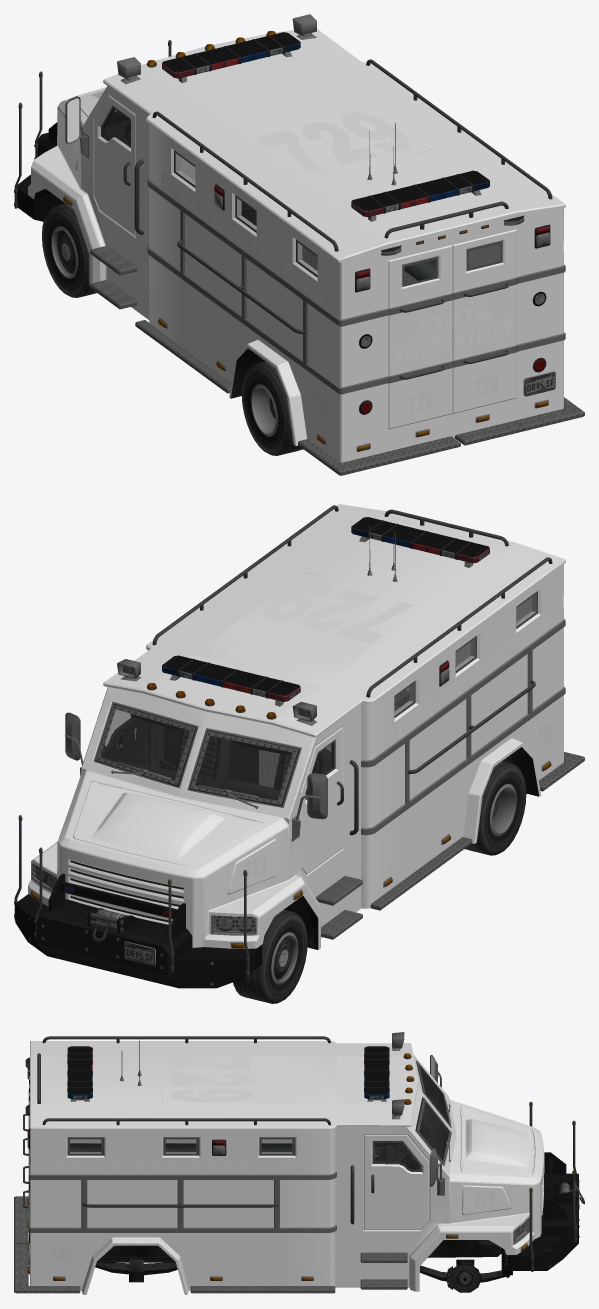
The model's file is prison_van.glb.
3 views of the same model, one above another, from view 1: azimuth 30°, elevation 25°; view 2: azimuth 150°, elevation 25°; view 3: azimuth 270°, elevation 25° (orthographic). The views are drawn at different scales.
Visible parts, largest first — view 1: prison_van; view 2: prison_van; view 3: prison_van.
Part boxes in pixels (bbox=[...]): prison_van: bbox=[14, 14, 584, 475]; prison_van: bbox=[14, 504, 584, 1003]; prison_van: bbox=[14, 1032, 584, 1294].
Bounding box in the file's own units: 2.54 × 2.74 × 6.11.
8 materials, 7 textured.
